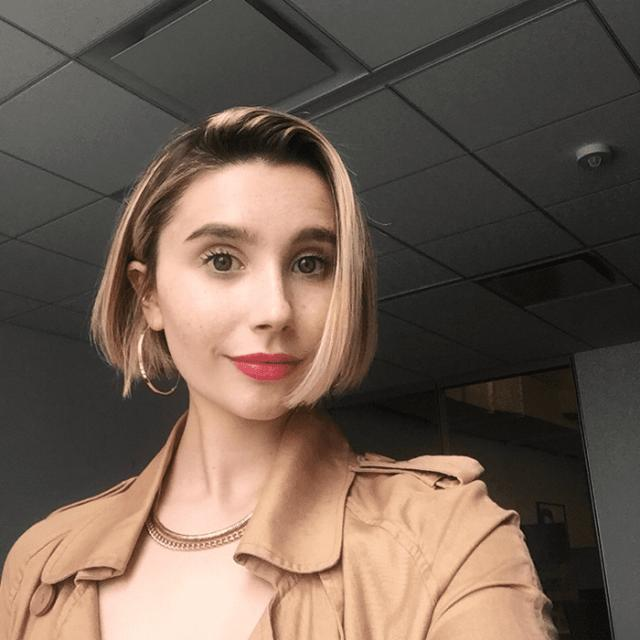earlobe: (144, 303, 164, 332)
eye: (202, 252, 249, 274), (290, 253, 332, 276)
nose: (252, 322, 302, 348)
wholeear: (126, 261, 165, 332)
